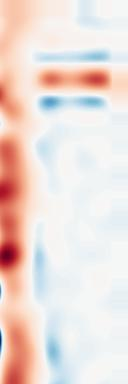filament: (0, 133, 40, 277)
